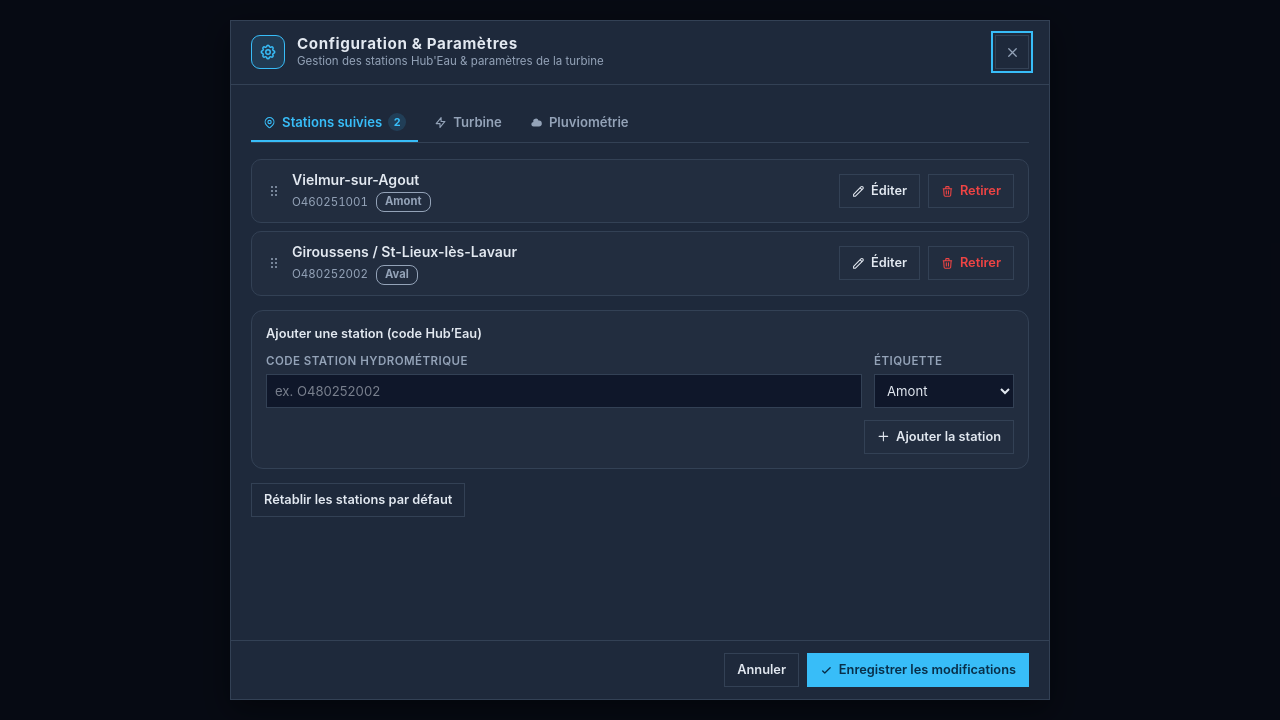
Test case: ConfigModal › bloque l’enregistrement si la station amont n’est plus suivie
Step 1. Click the button "Enregistrer les modifications" → (918, 670), box [807,653,1029,687]
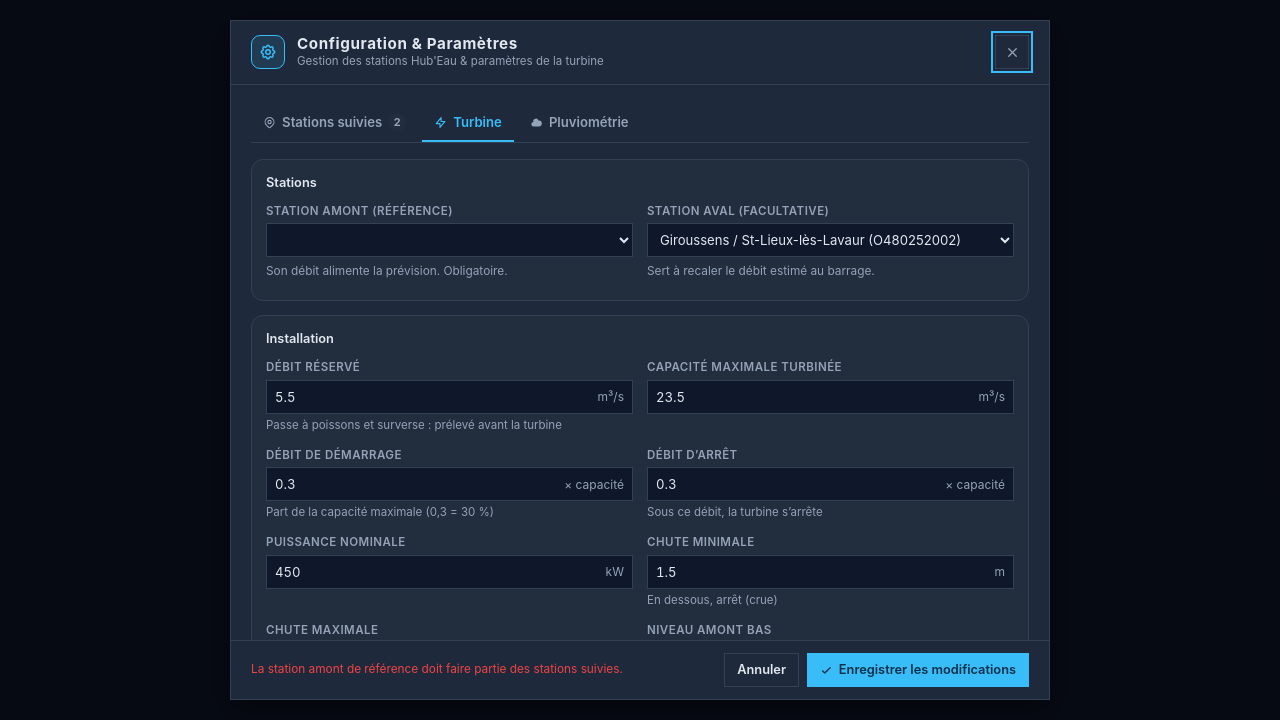
Expected: the message with class "cfg-foot__error" shows "station amont", [251,662,623,676]
